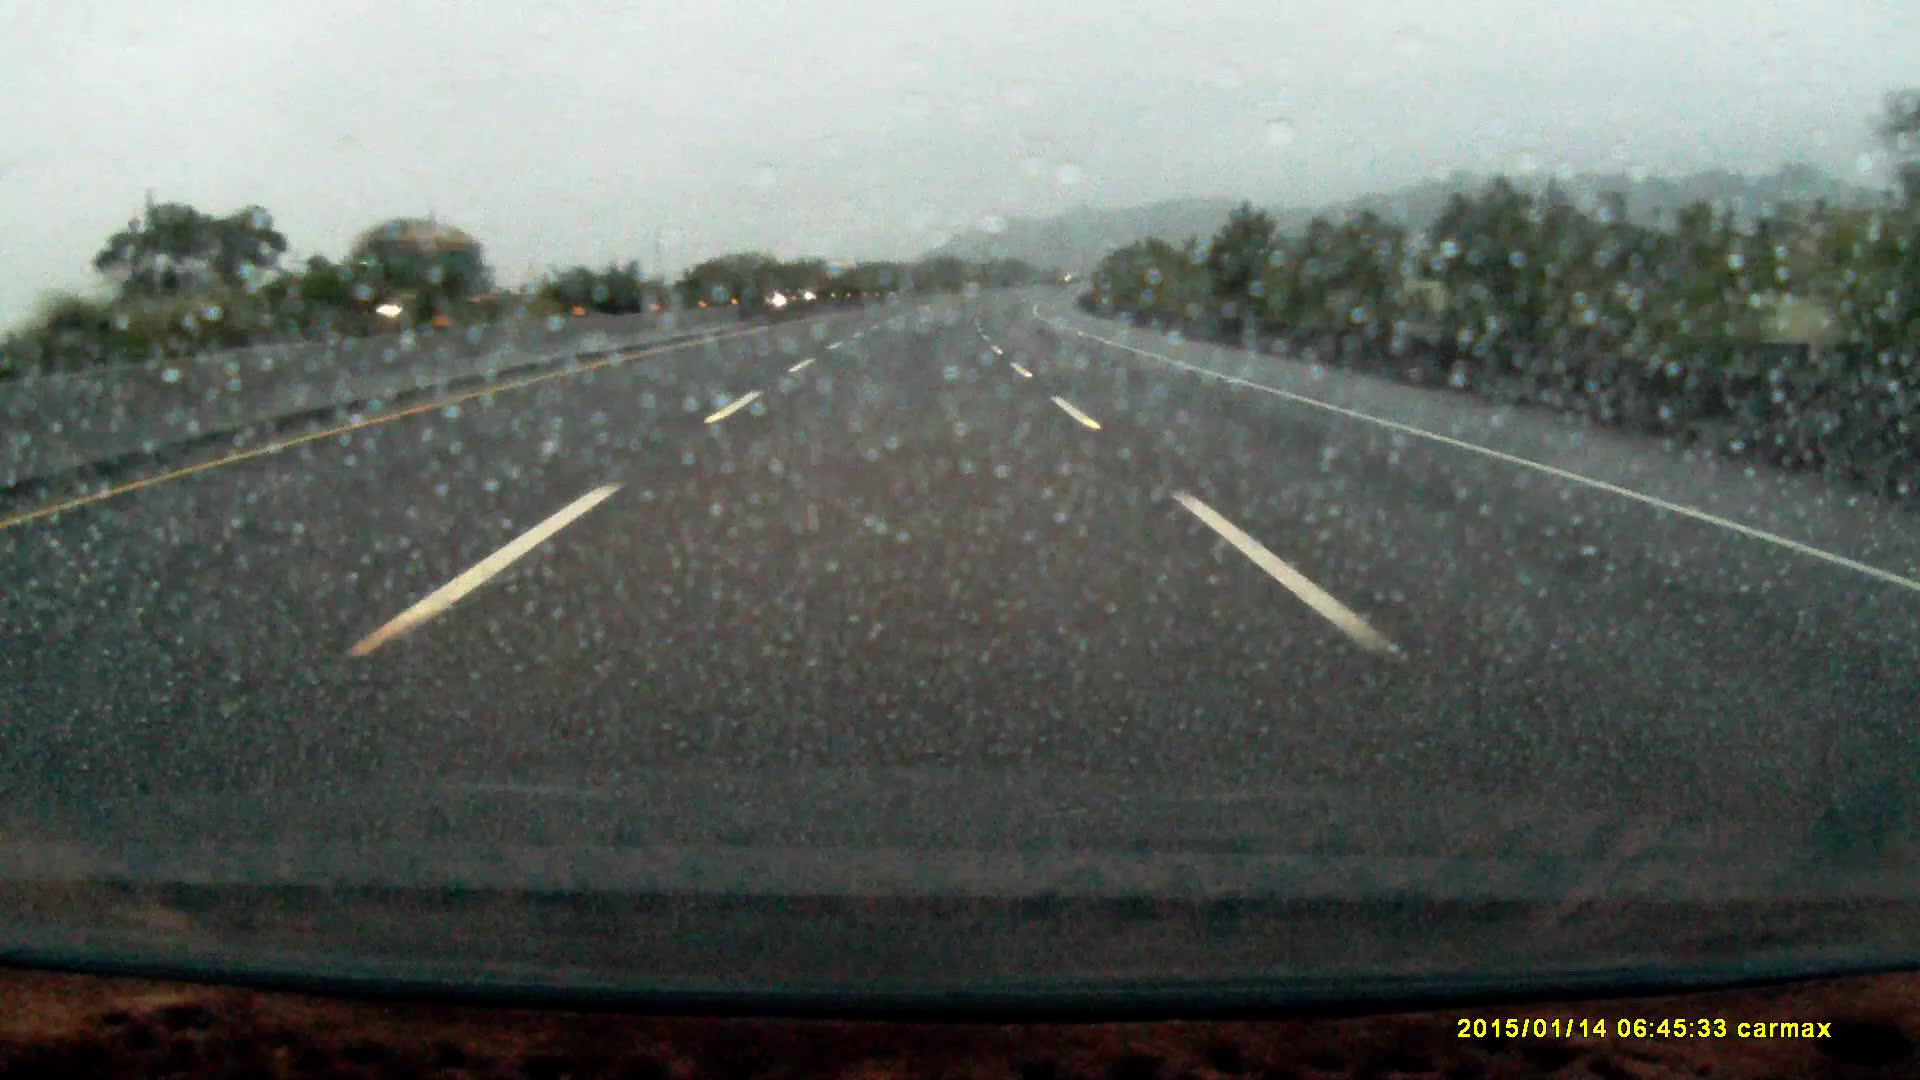vehicle: (342, 218, 484, 331)
